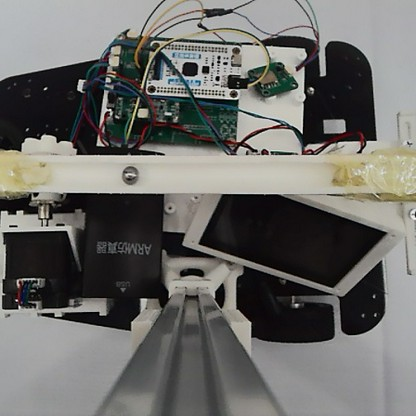ironball: (119, 164, 139, 185)
